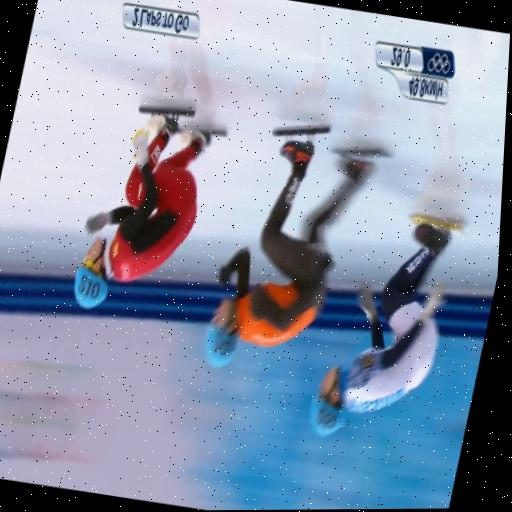Skater: (206, 139, 384, 366), (310, 216, 461, 434), (74, 109, 212, 307)
